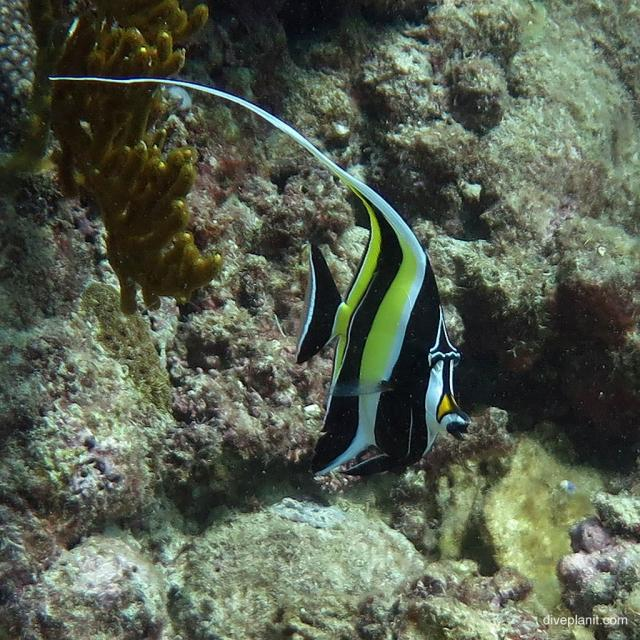MorishIdol: (46, 70, 473, 482)
